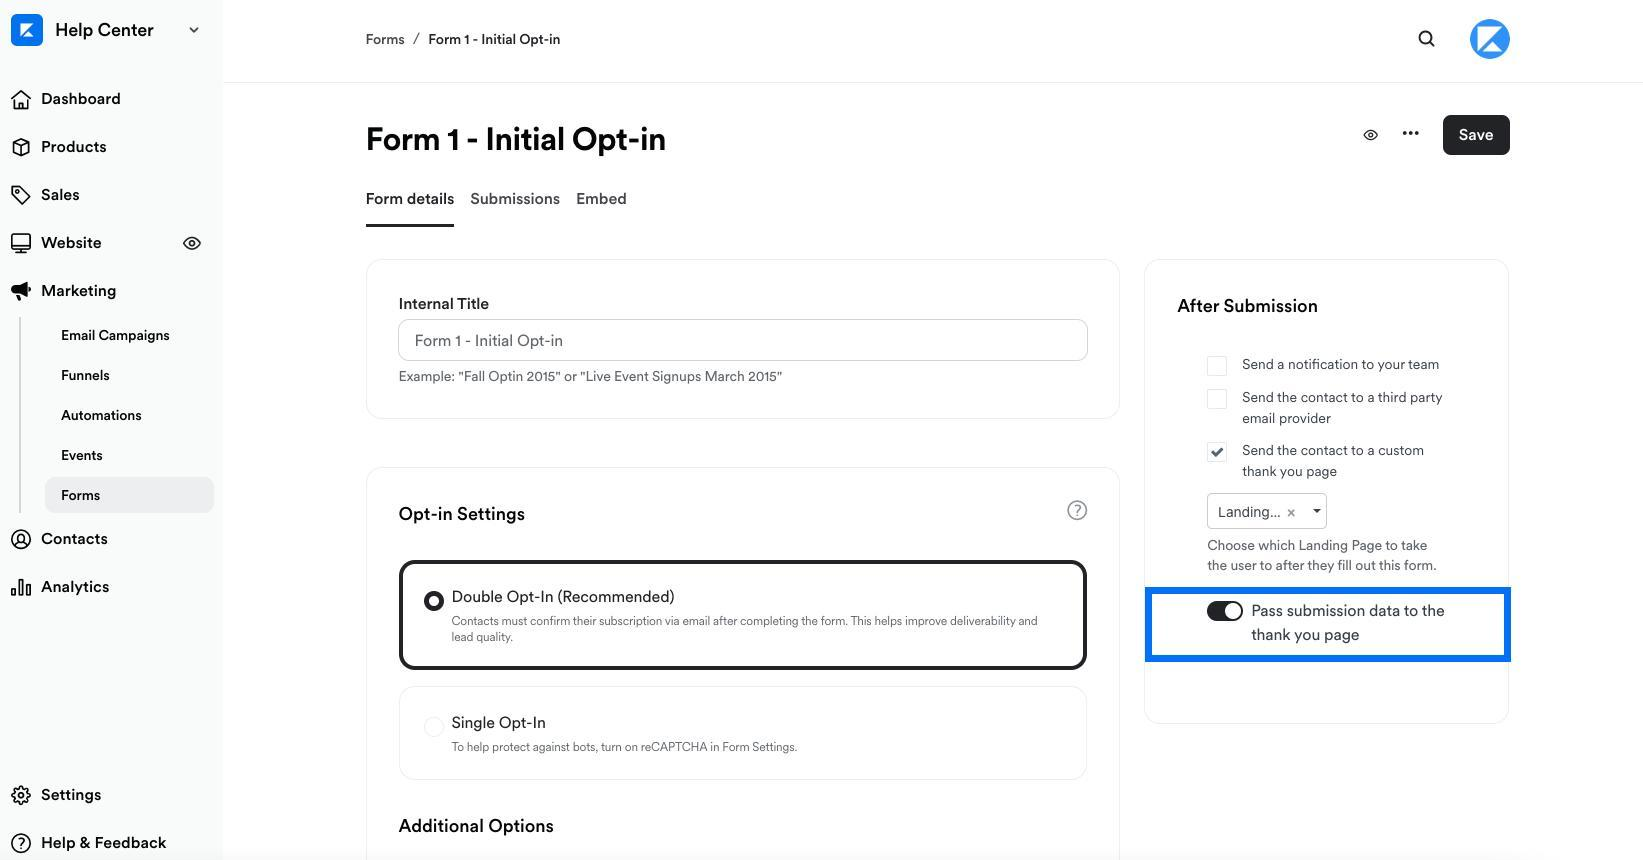button: (1442, 115, 1514, 157)
checkbox: (1206, 356, 1229, 381), (1206, 387, 1229, 411), (1207, 441, 1230, 463)
dropdown: (1206, 493, 1329, 531), (52, 16, 206, 46)
icon: (8, 232, 39, 263), (10, 88, 39, 119), (8, 579, 38, 609), (7, 526, 38, 554), (9, 182, 35, 215), (8, 282, 38, 310), (1414, 28, 1442, 57), (9, 133, 37, 159), (10, 785, 34, 814), (179, 235, 210, 258), (9, 835, 35, 860), (1400, 127, 1427, 146), (1359, 125, 1383, 144)
input: (397, 320, 1092, 360)
label: (1251, 603, 1462, 648), (1240, 440, 1433, 486), (1241, 386, 1447, 426), (1241, 357, 1444, 376)
radio: (423, 714, 448, 744), (424, 589, 446, 616)
switch: (1205, 599, 1247, 627)
